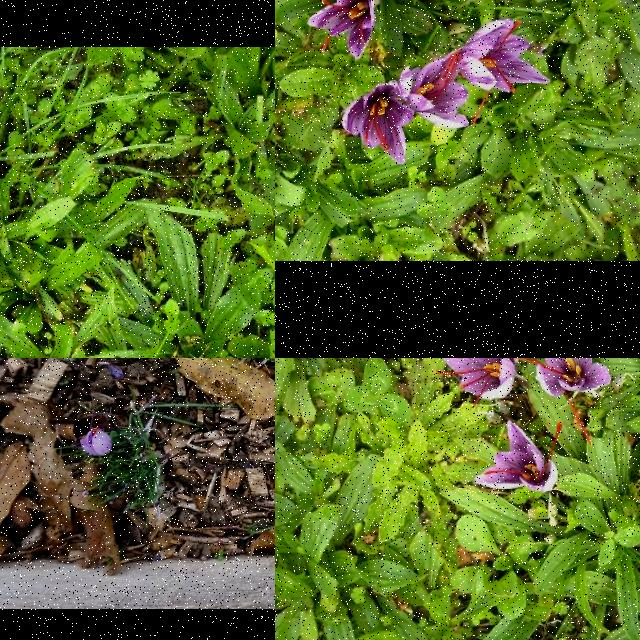flower: (490, 358, 612, 443), (460, 18, 550, 126), (474, 422, 564, 492), (399, 47, 468, 129), (344, 86, 414, 164), (307, 0, 374, 61), (434, 358, 518, 406), (80, 427, 112, 457)
